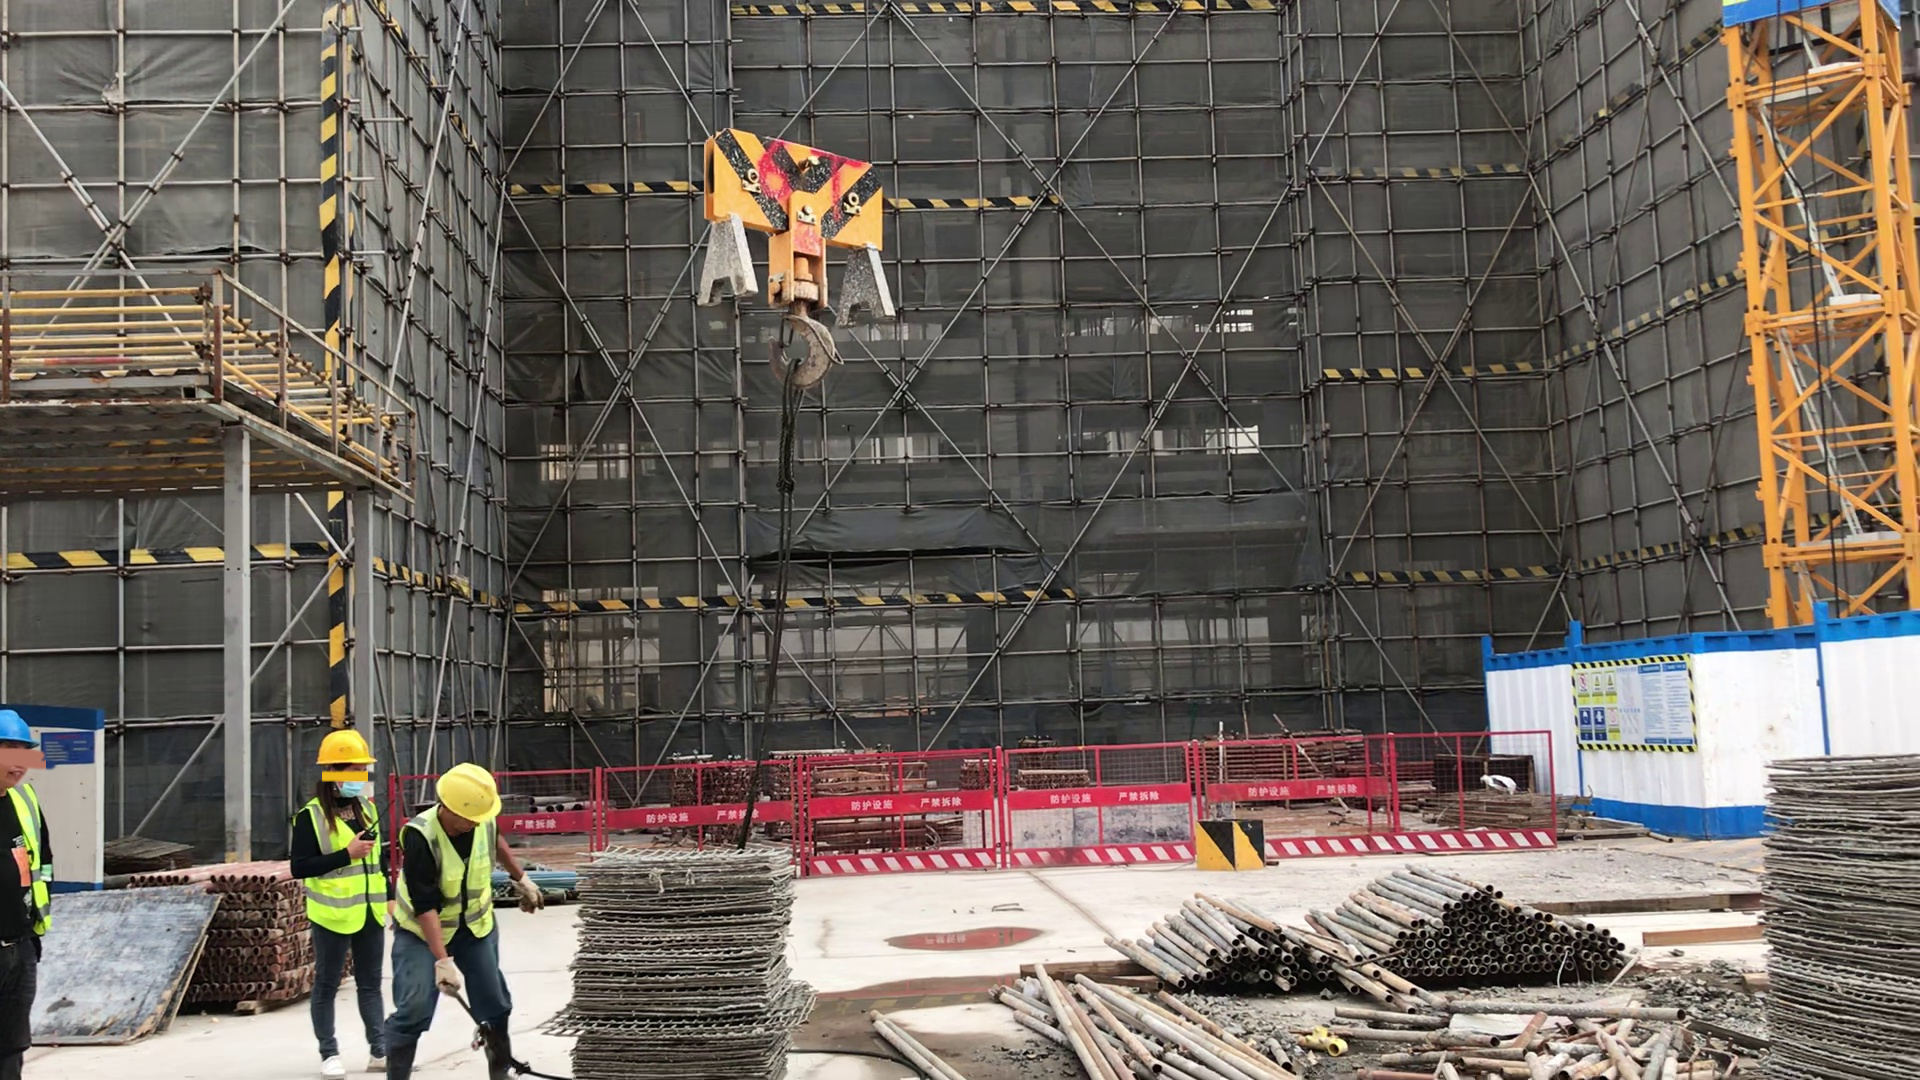fence: (420, 735, 1558, 868)
helmet: (436, 764, 503, 822), (316, 729, 378, 764), (2, 708, 41, 751)
hook: (694, 127, 894, 392)
person: (395, 764, 536, 1080), (294, 729, 388, 1077), (1, 708, 54, 1080)
scaffold: (1341, 867, 1629, 982), (158, 862, 311, 1006)
slogan: (1578, 668, 1633, 746)
vest: (394, 806, 499, 939), (302, 803, 390, 938), (1, 780, 54, 949)
